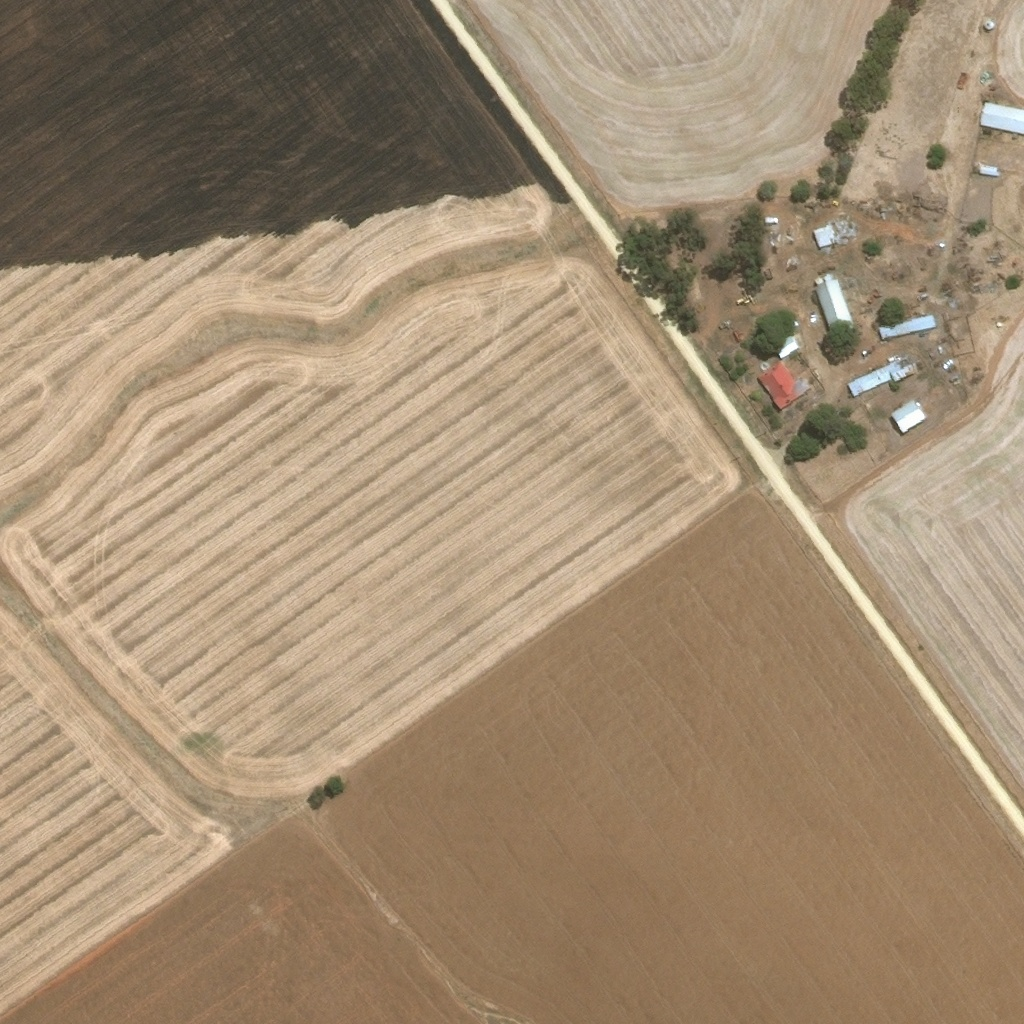0 no-damage: (758, 362, 810, 410), (813, 274, 853, 335), (846, 360, 907, 397), (878, 313, 935, 341), (978, 102, 1023, 135), (891, 398, 927, 434), (812, 226, 836, 251), (773, 337, 798, 359), (976, 166, 997, 178), (759, 217, 775, 227), (984, 20, 994, 30)
